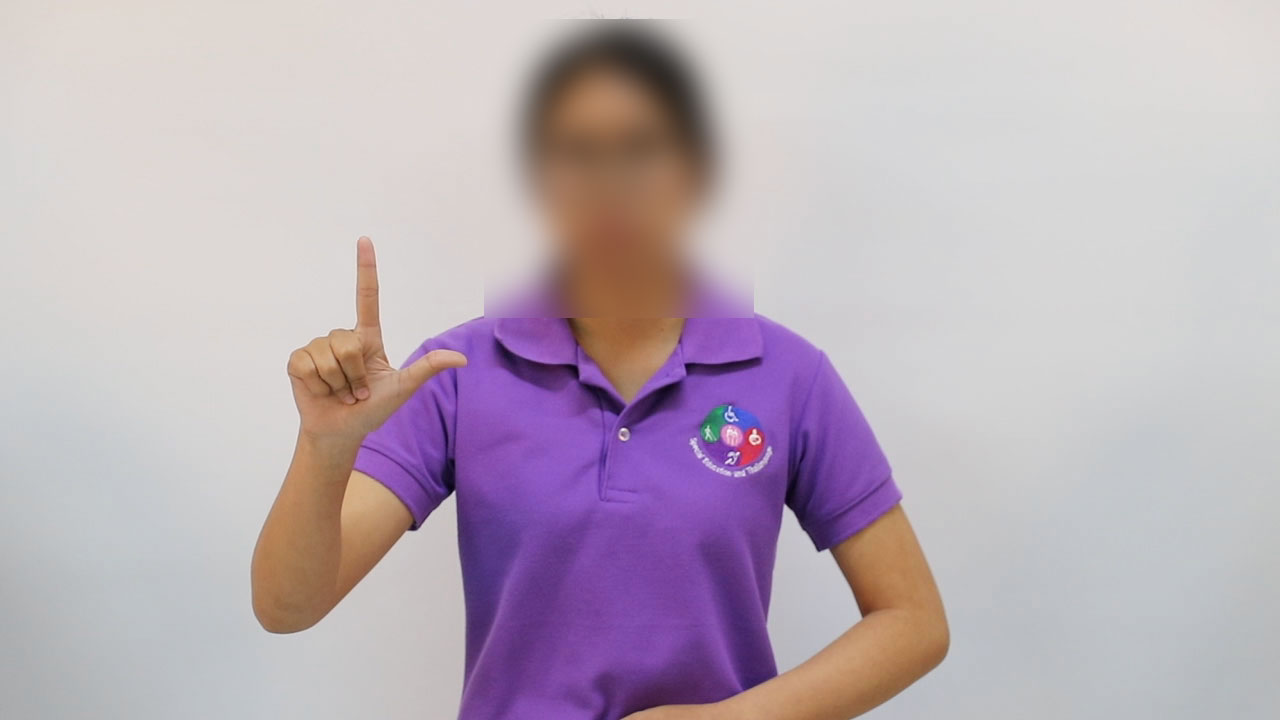lor: (277, 224, 476, 464)
